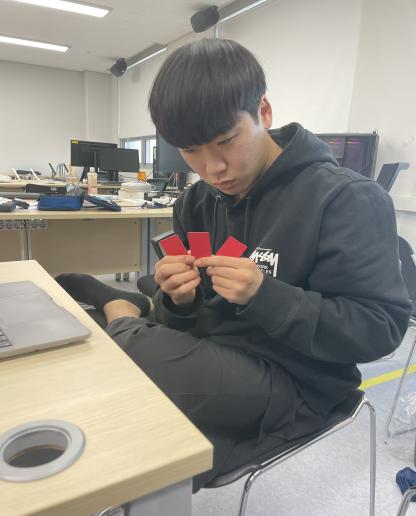ThreeHwatoo: (154, 220, 252, 272)
